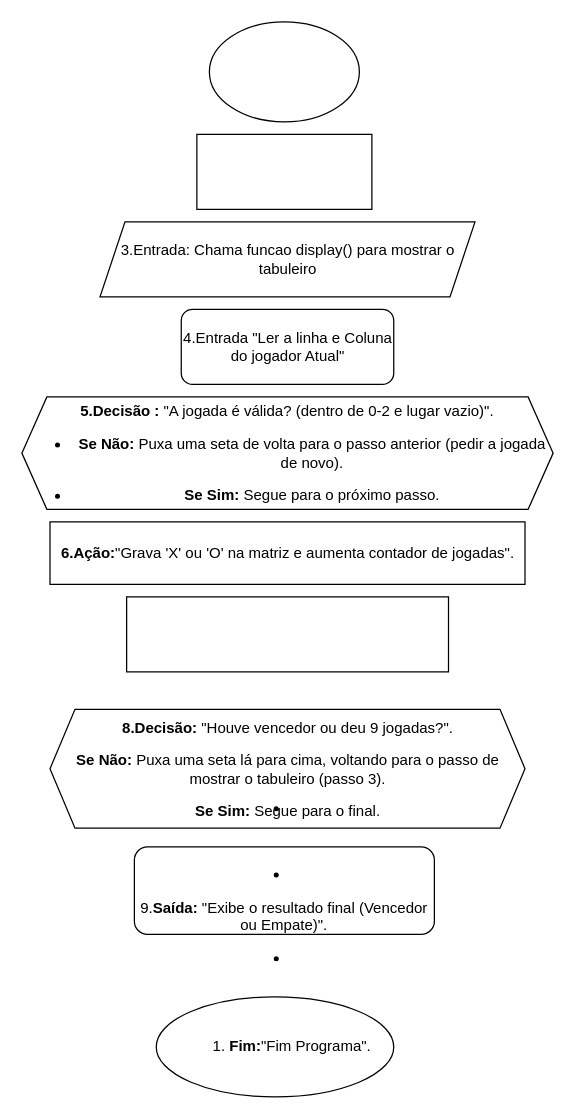
The diagram is 575 pixels wide and 1119 high, and some of its shapes have lost their labels. The box of each missing label's shape, as (x1, y1, x2, y2) in pixels:
1.Inicio: (208, 21, 359, 122)
2.Acao: "Chama funcao reset() "para limpar a matriz: (196, 133, 372, 209)
7.Ação: "Chama função check() " (para verificar se alguém ganhou).: (125, 596, 448, 672)
